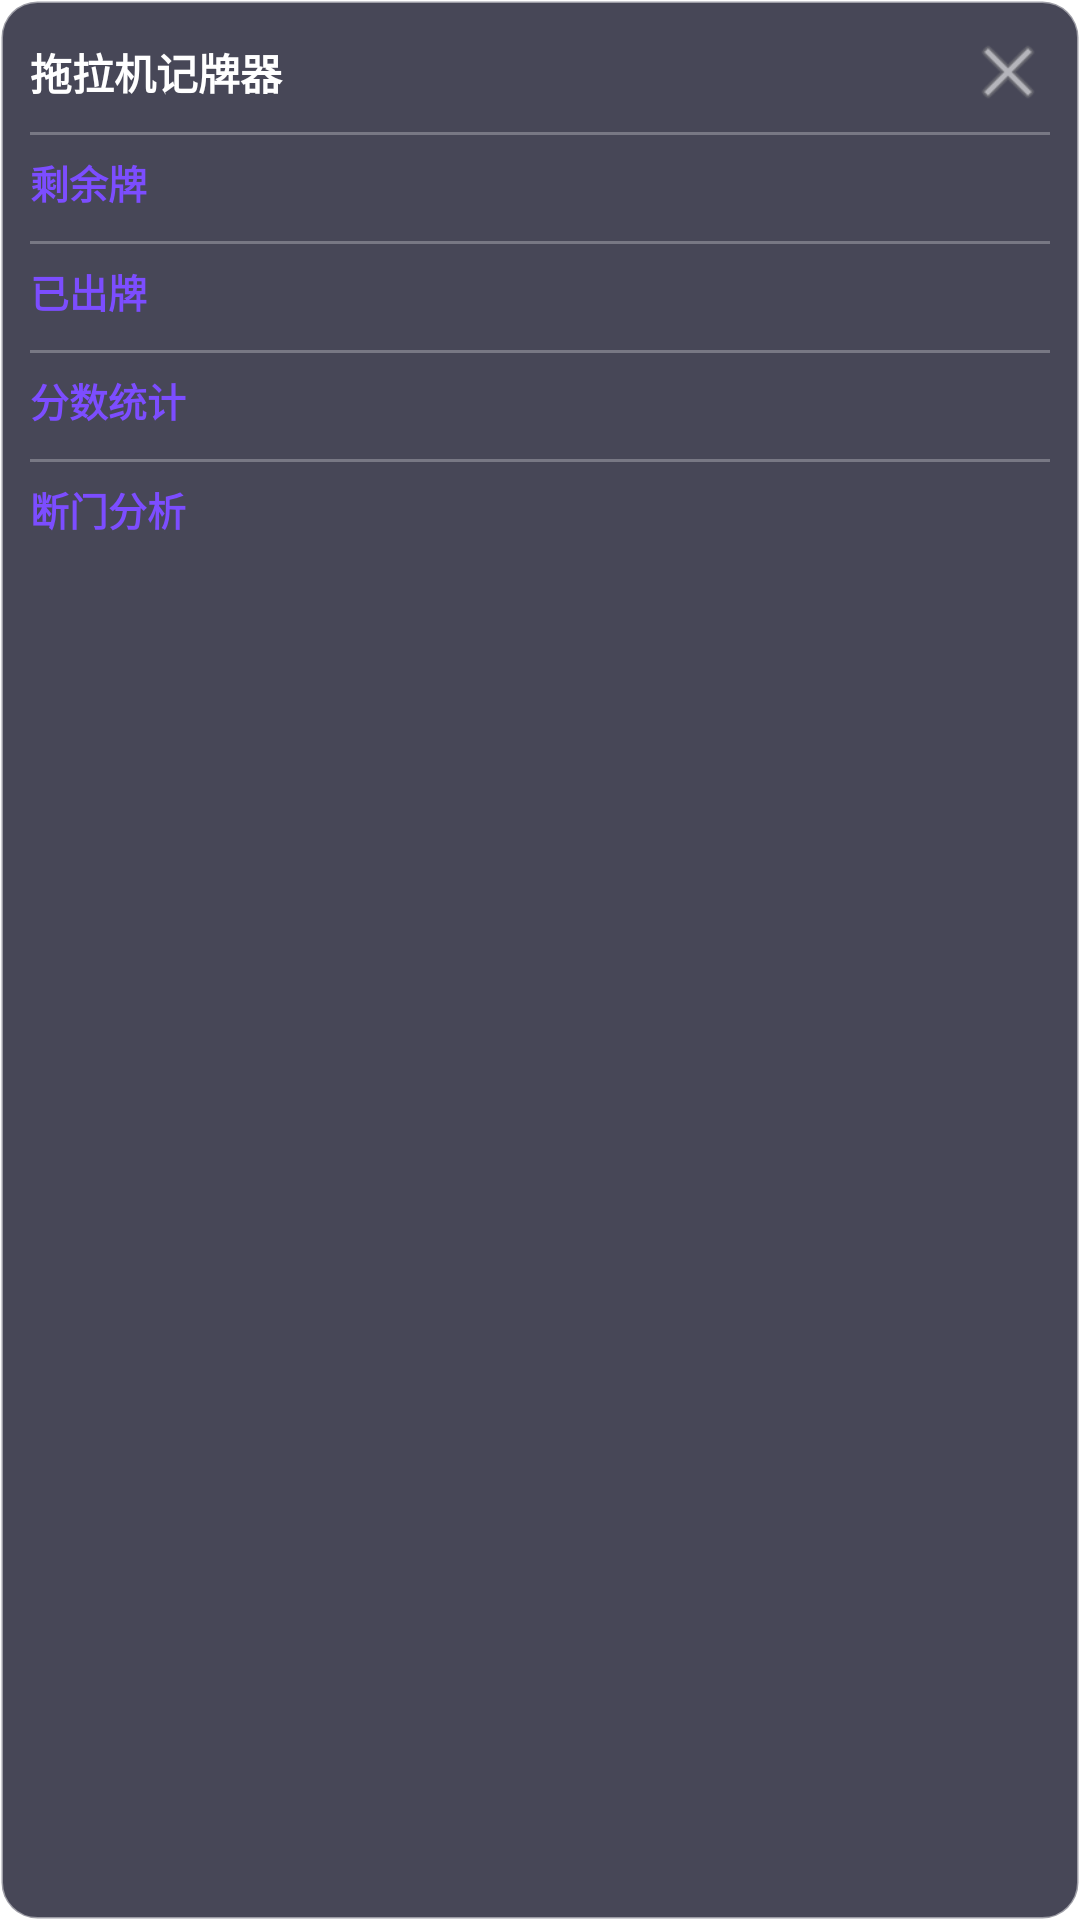

Named icons in this screenshot (1080w x 1920h) and their bounding boxes, BBox(x1, y1, x2, y2):
收起: BBox(983, 47, 1033, 97)
